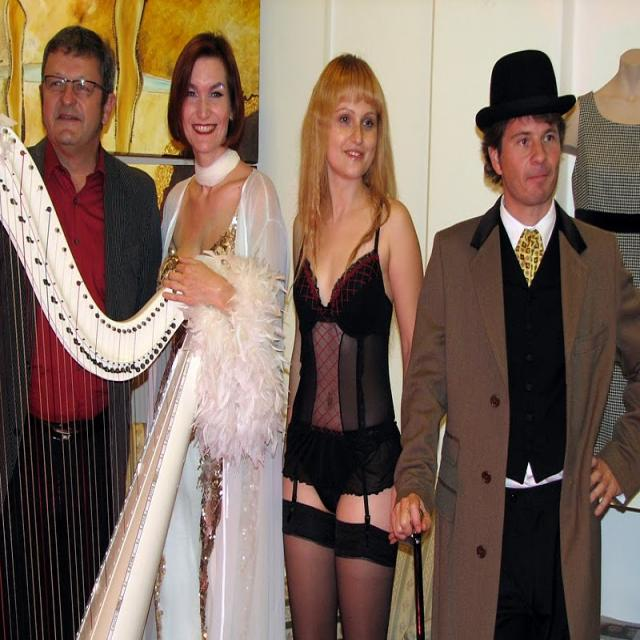harp: (0, 113, 233, 640)
